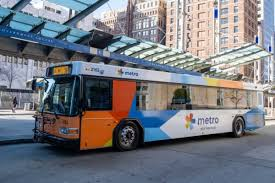bus: (34, 61, 266, 153)
